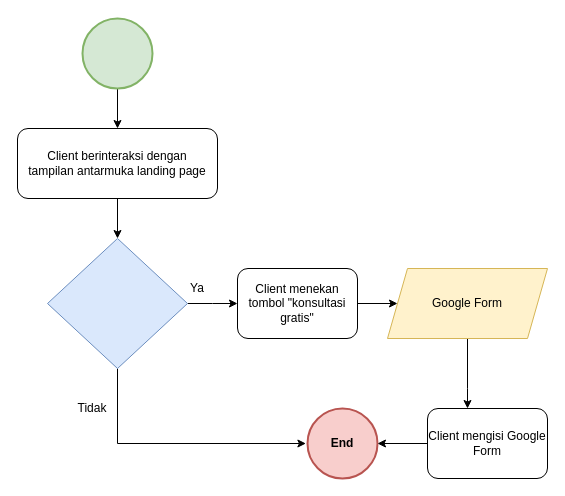
Image size: 565x496. Some labels were removed from this diagram. Here are the shapes that lost their labels. From the top down, the centre of each, then its label:
At (x=117, y=53): "Start".
At (x=117, y=303): "Client ingin konsultasi gratis?".
